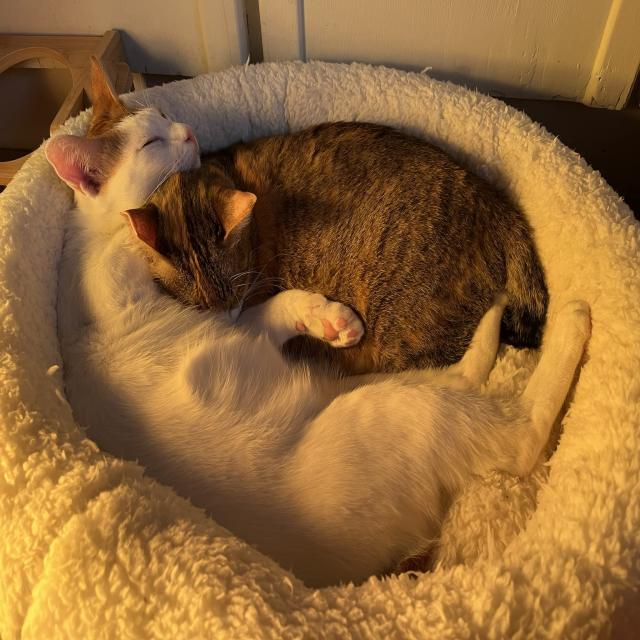cat1: (47, 54, 590, 585)
cat2: (152, 120, 550, 383)
